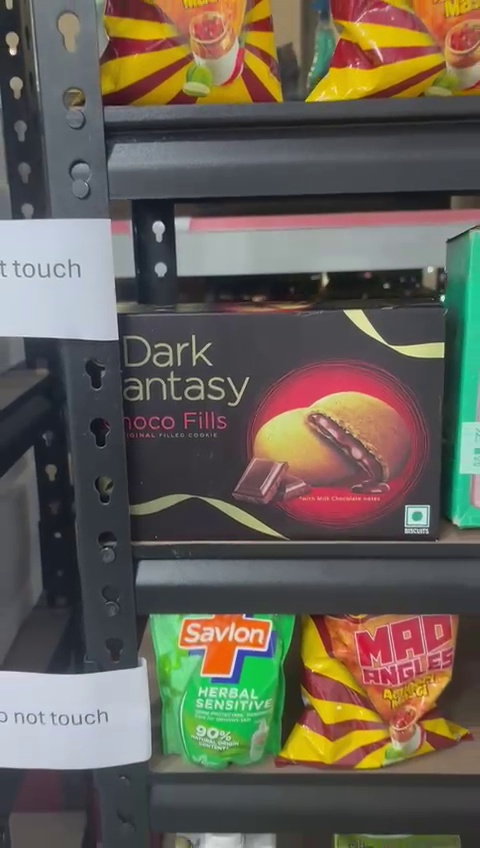Bingo Mad Angles: (299, 609, 454, 768)
Dark Fantasy: (116, 298, 440, 539)
Savlon Herbal: (148, 612, 281, 767)
